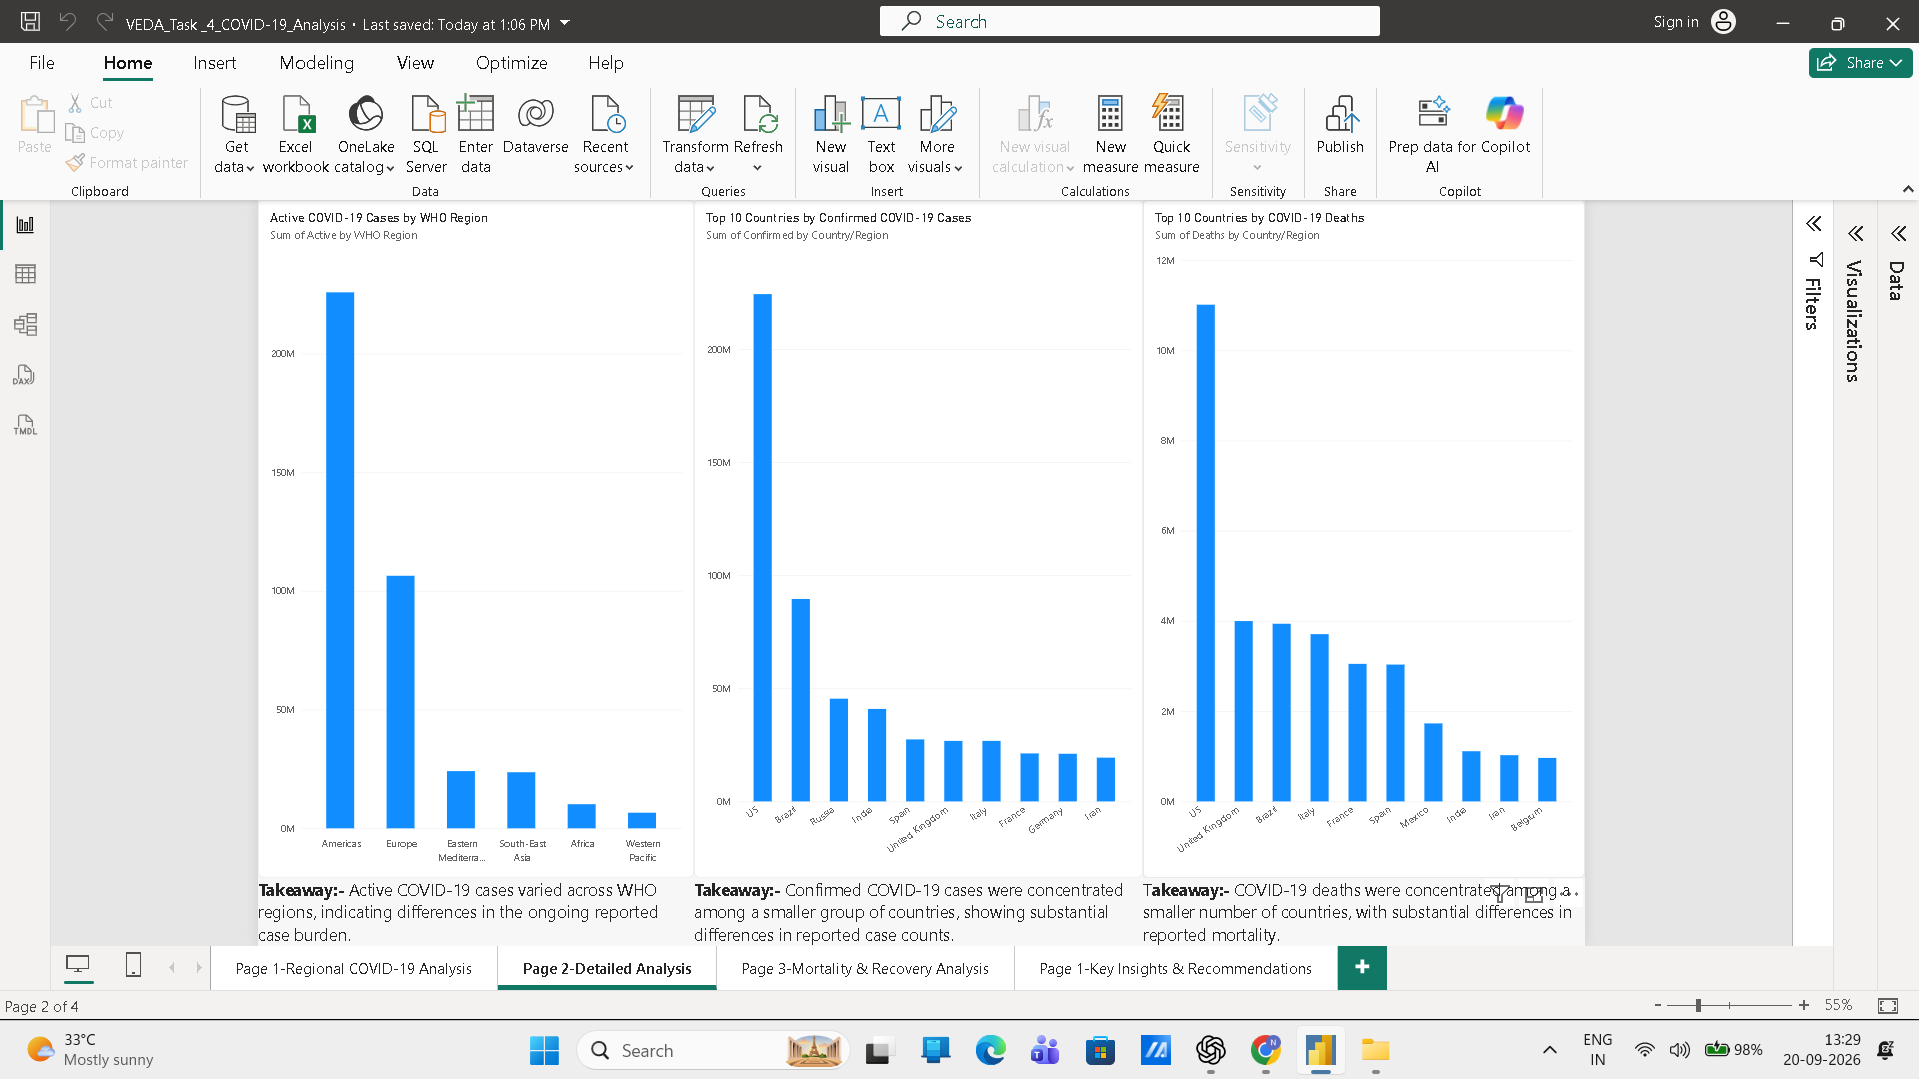

Layout of this report page (visuals, bound fields, positions):
{"tool":"powerbi","page":{"name":"Page 2-Detailed Analysis","canvas":[1920,1080],"ordinal":1},"visuals":[{"type":"clusteredColumnChart","title":"Active COVID-19 Cases by WHO Region","fields":{"Category":["covid_19_clean_complete.WHO Region"],"Y":["Sum(covid_19_clean_complete.Active)"]},"box":[0,0,631.6,980.8],"z":0},{"type":"textbox","box":[0,980.8,631.6,99.5],"z":1000},{"type":"clusteredColumnChart","title":"Top 10 Countries by Confirmed COVID-19 Cases","fields":{"Category":["covid_19_clean_complete.Country/Region"],"Y":["Sum(covid_19_clean_complete.Confirmed)"]},"box":[631.6,0,649.7,980.8],"z":2000},{"type":"textbox","box":[631.6,980.8,638.8,99.5],"z":3000},{"type":"clusteredColumnChart","title":"Top 10 Countries by COVID-19 Deaths","fields":{"Category":["covid_19_clean_complete.Country/Region"],"Y":["Sum(covid_19_clean_complete.Deaths)"]},"box":[1281.2,0,638.8,980.8],"z":4000},{"type":"textbox","box":[1281.2,980.8,638.8,99.5],"z":5000}]}

Visuals, with their boxes on the page's 1920x1080 design canvas (x1, y1, x2, y2). These are canvas units, not pixel positions in the 1919x1079 screenshot, which may show the page scaled, cropped or inside an application window:
"Active COVID-19 Cases by WHO Region" clusteredColumnChart: <box>0,0,632,981</box>
textbox: <box>0,981,632,1080</box>
"Top 10 Countries by Confirmed COVID-19 Cases" clusteredColumnChart: <box>632,0,1281,981</box>
textbox: <box>632,981,1270,1080</box>
"Top 10 Countries by COVID-19 Deaths" clusteredColumnChart: <box>1281,0,1920,981</box>
textbox: <box>1281,981,1920,1080</box>
